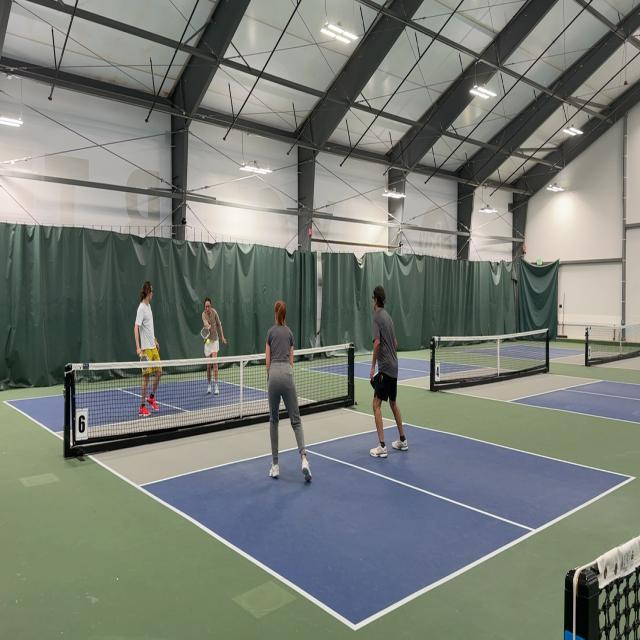ball: (206, 338, 210, 345)
